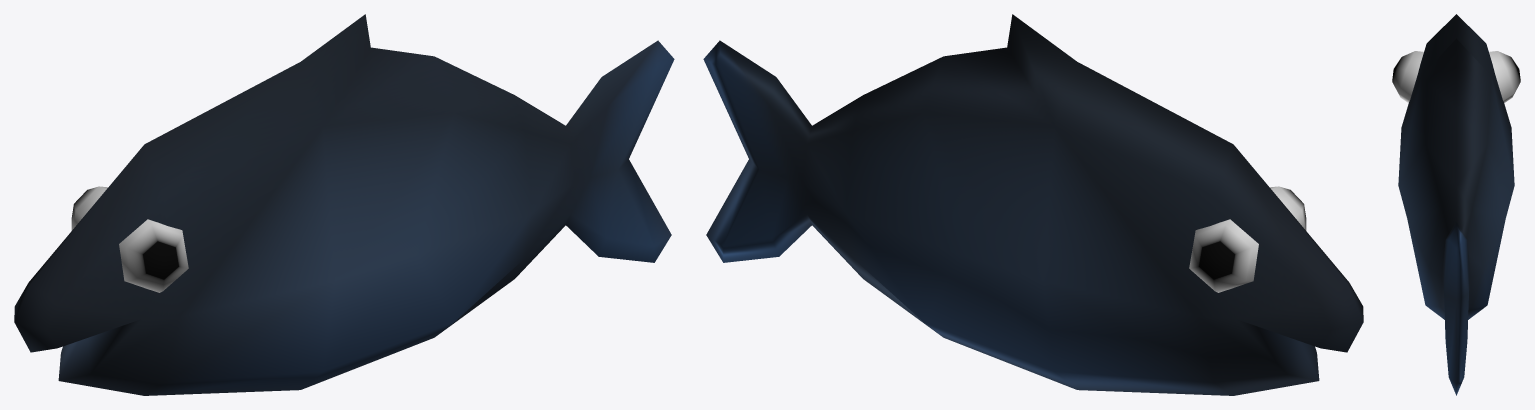
File: SM_Fish01.obj
3 views of the same model, side by side, from view 1: azimuth 30°, elevation 25°; view 2: azimuth 150°, elevation 25°; view 3: azimuth 270°, elevation 25° (orthographic). The views are drawn at different scales.
Parts seen in each view (by area): view 1: SM_Fish01; view 2: SM_Fish01; view 3: SM_Fish01.
Part boxes in pixels (x1,y1,x2,y2): SM_Fish01: [14, 14, 674, 395]; SM_Fish01: [703, 14, 1363, 395]; SM_Fish01: [1392, 14, 1520, 395].
Size of the model in its own units: 0.046 by 0.024 by 0.01.
